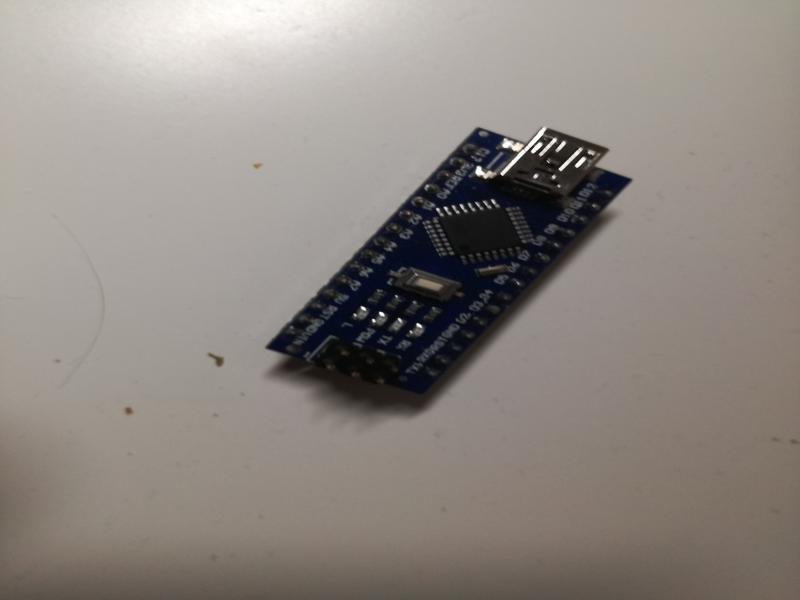Arduino_Nano: (254, 116, 637, 432)
